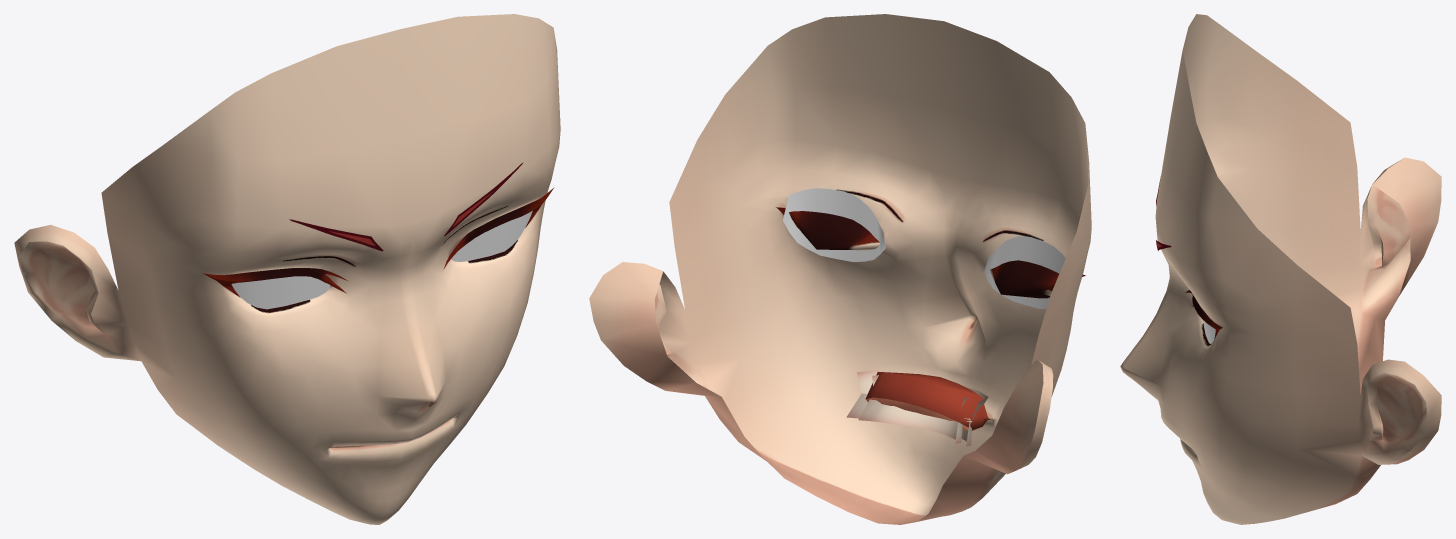
Rendered from Natsume.fbx.
3 views of the same model, side by side, from view 1: azimuth 30°, elevation 25°; view 2: azimuth 150°, elevation 25°; view 3: azimuth 270°, elevation 25° (orthographic). The views are drawn at different scales.
Visible parts, largest first — view 1: M_Head, M_Eye_B_Def, M_Mth_B_Def, M_PupALL_R_A_Def, M_PupALL_L_A_Def, M_Brw_B_Def; view 2: M_Head, M_Eye_B_Def, M_Mth_B_Def, M_PupALL_L_A_Def, M_PupALL_R_A_Def; view 3: M_Head, M_Eye_B_Def, M_Mth_B_Def.
Part boxes in pixels (box(x1,y1,x2,y2)): M_Head: box(14, 14, 560, 394); M_Eye_B_Def: box(169, 130, 560, 404); M_Mth_B_Def: box(142, 339, 515, 524); M_PupALL_R_A_Def: box(231, 276, 330, 309); M_PupALL_L_A_Def: box(451, 210, 532, 261); M_Brw_B_Def: box(289, 162, 523, 251); M_Head: box(589, 14, 1091, 474); M_Eye_B_Def: box(731, 139, 1091, 392); M_Mth_B_Def: box(705, 316, 1029, 524); M_PupALL_L_A_Def: box(783, 188, 885, 261); M_PupALL_R_A_Def: box(984, 236, 1065, 308); M_Head: box(1155, 14, 1441, 464); M_Eye_B_Def: box(1120, 116, 1256, 443); M_Mth_B_Def: box(1121, 311, 1384, 524).
Size of the model in its own units: 0.1778 by 0.1765 by 0.109.
Materials: 5 (3 with a texture image).
